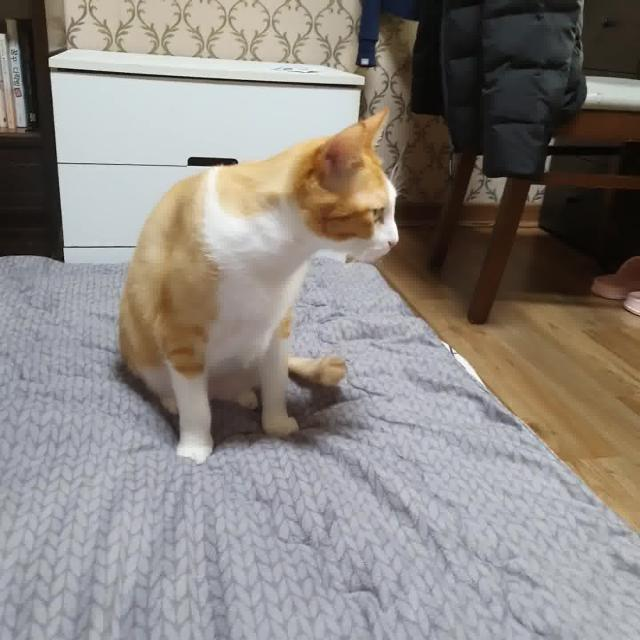cat: (116, 106, 408, 466)
